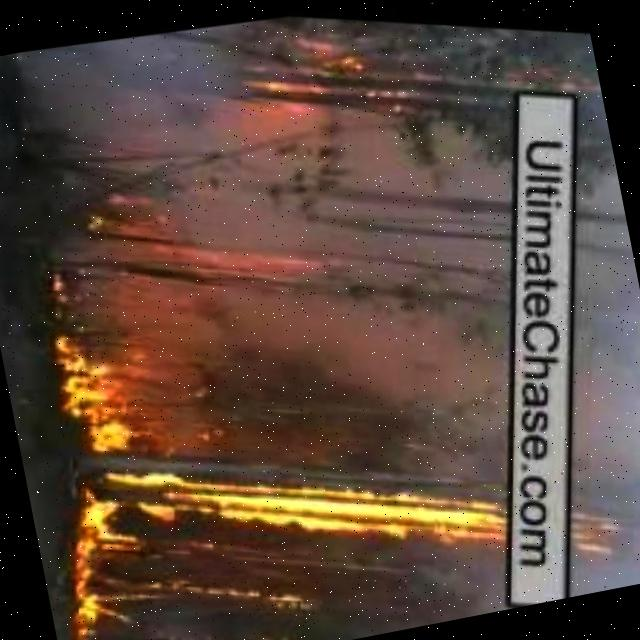fire: (45, 390, 515, 640), (49, 535, 324, 640), (26, 321, 157, 464), (235, 14, 390, 134), (558, 493, 637, 576)
